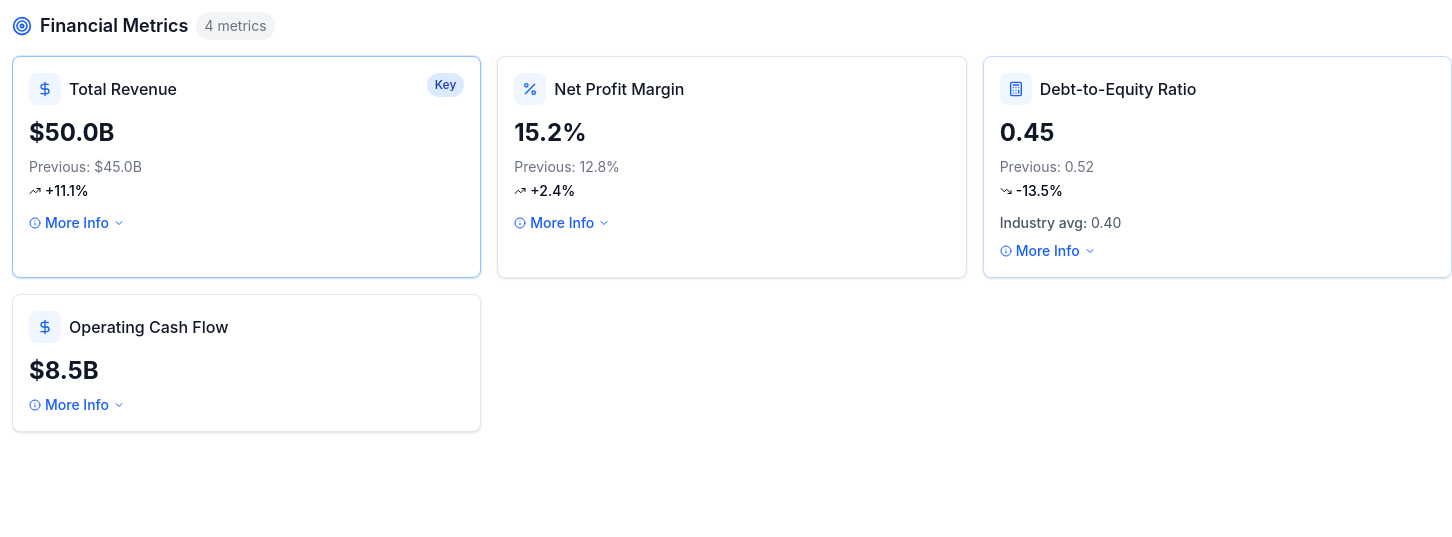
FinancialMetricsGrid › expands metric details when More Info is clicked
Click the button "More Info" below "+11.1%" at (77, 223), box [29, 213, 125, 233]
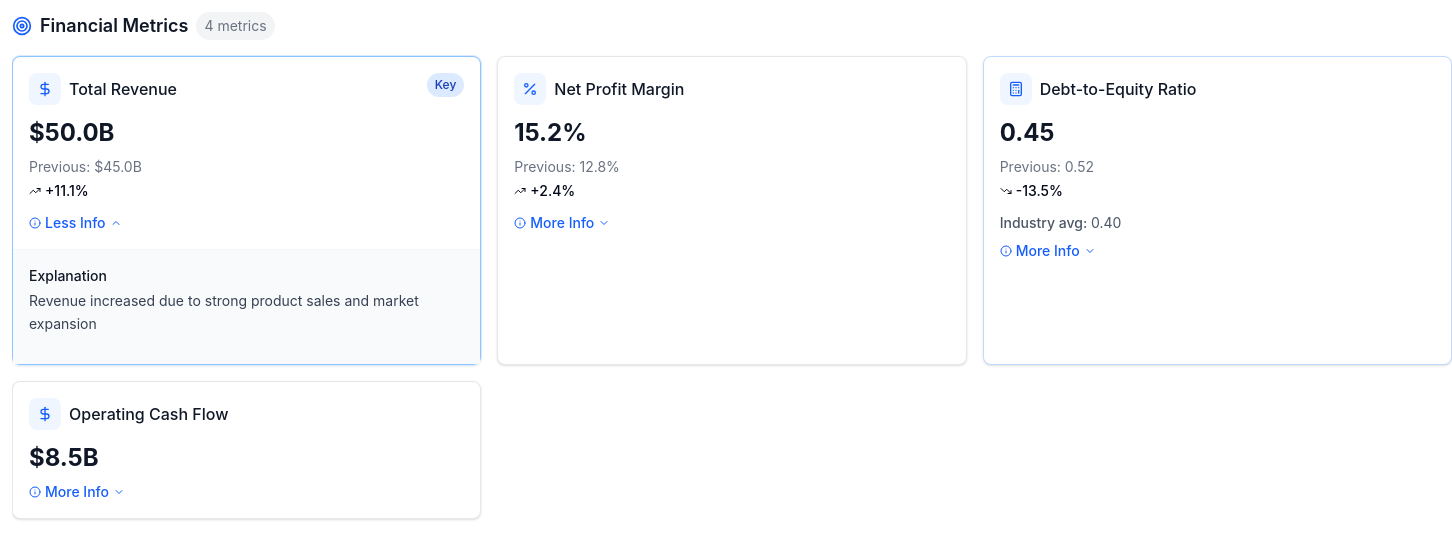
Expected: the heading "Explanation" is shown, [29, 267, 107, 284]
Expected: the text "Revenue increased due to strong product sales" is shown, [29, 292, 419, 332]
Expected: the button "Less Info" is shown, [29, 213, 122, 233]
